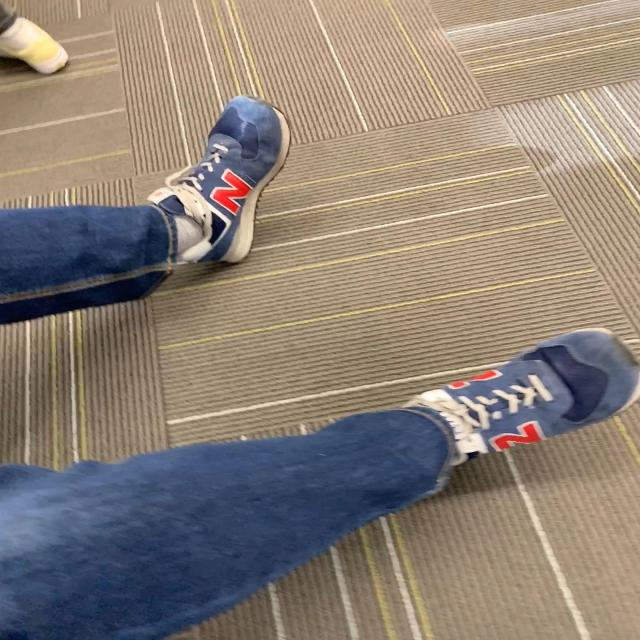shoe: (449, 330, 640, 466), (188, 98, 283, 247)
